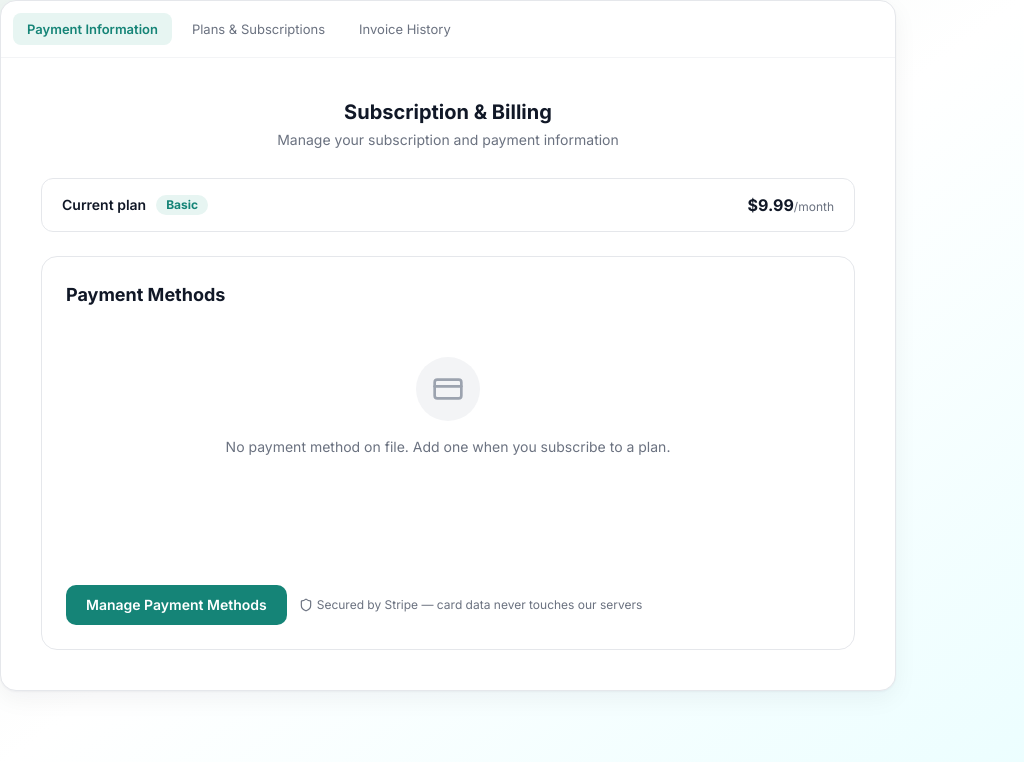
Test: Billing Page Integration › shows the pricing plans on the Plans tab
What coordinates should you click on to do the following:
click the text "Plans & Subscriptions"
I would click on:
 (258, 29)
Its box is [192,21,325,37].
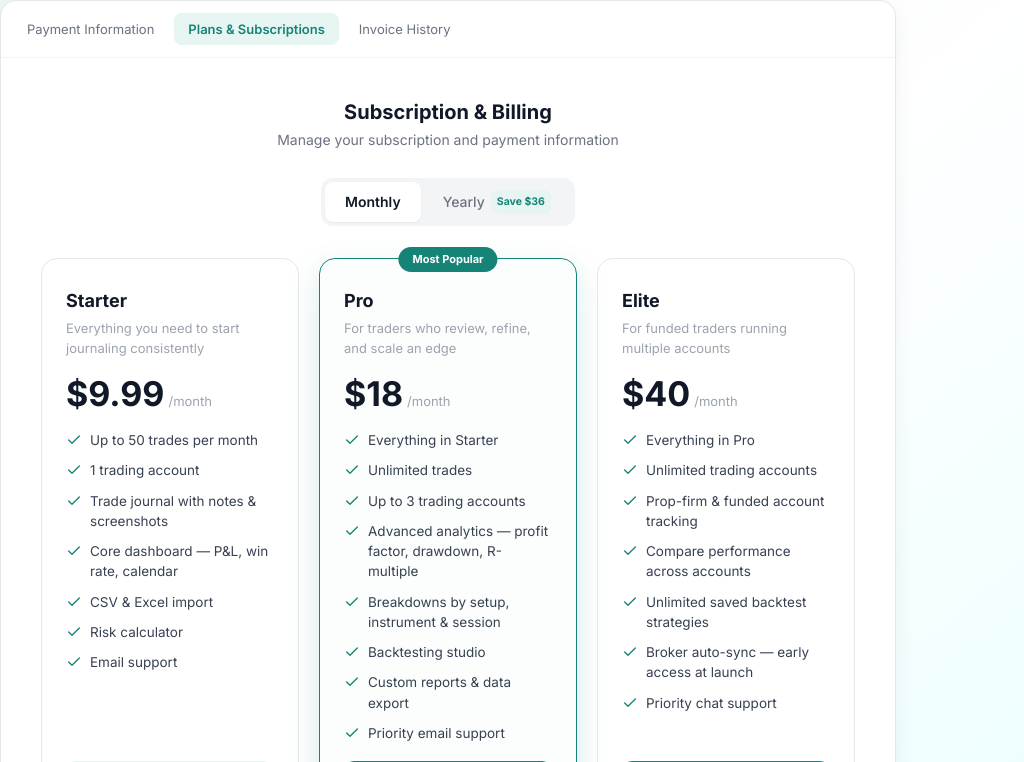
Check: the heading "Starter" is shown, box [66,290,127,311]
Check: the heading "Pro" is shown, box [344,290,374,311]
Check: the heading "Elite" is shown, box [622,290,660,311]
